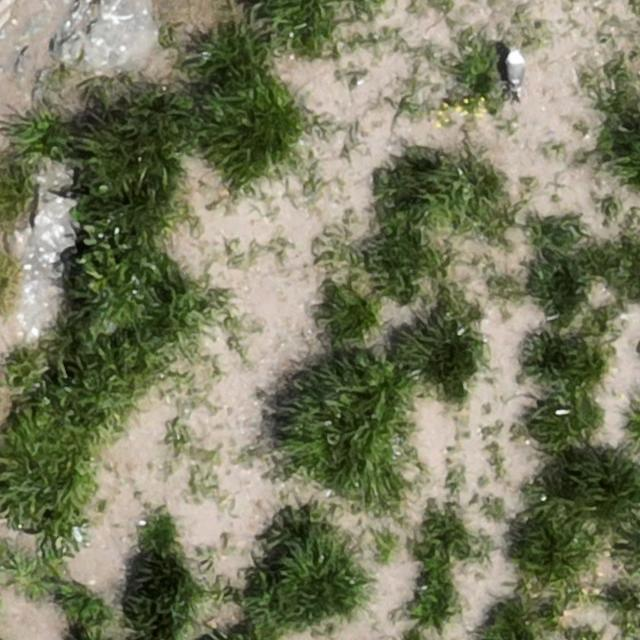umineko: (507, 51, 525, 88)
